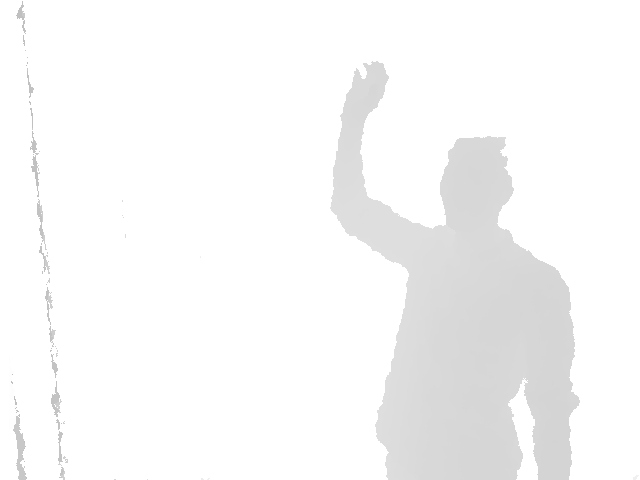hand: (342, 60, 390, 124)
head: (438, 135, 515, 228)
person: (329, 60, 581, 480)
